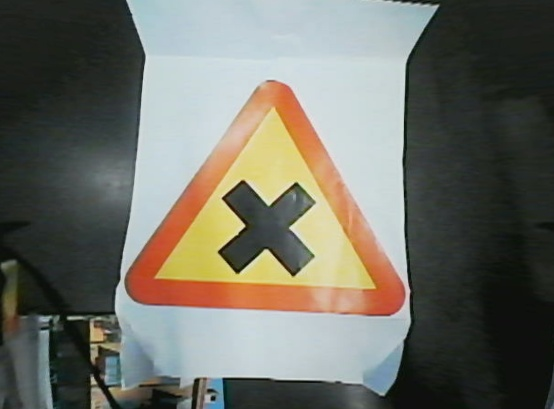junction: (130, 71, 409, 319)
